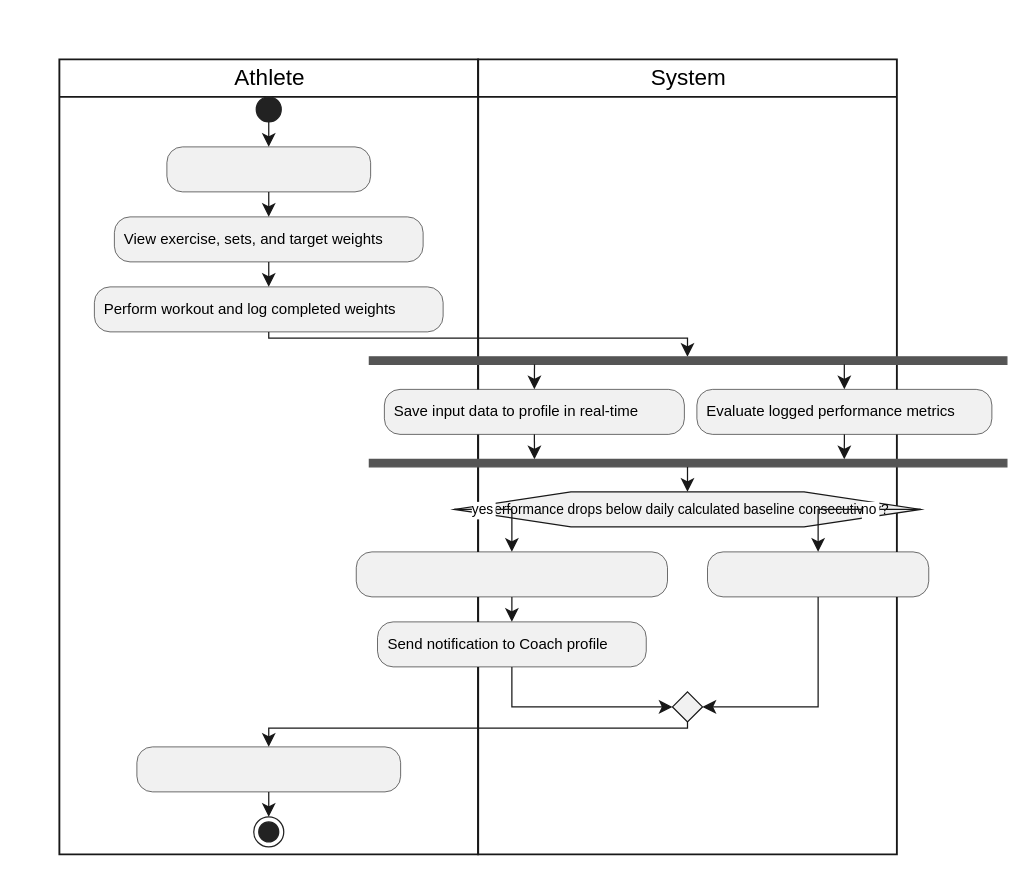
Image size: 1029x876. Some labels were removed from this diagram. The shapes that lost their labels are listed below. From the top down, each one's centre as x and y in pixels, then its label:
At point 268,169: "Open daily workout plan".
At point 511,574: "Generate below-progress warning alert".
At point 817,574: "Log workout data normally".
At point 268,769: "Receive completion confirmation".
